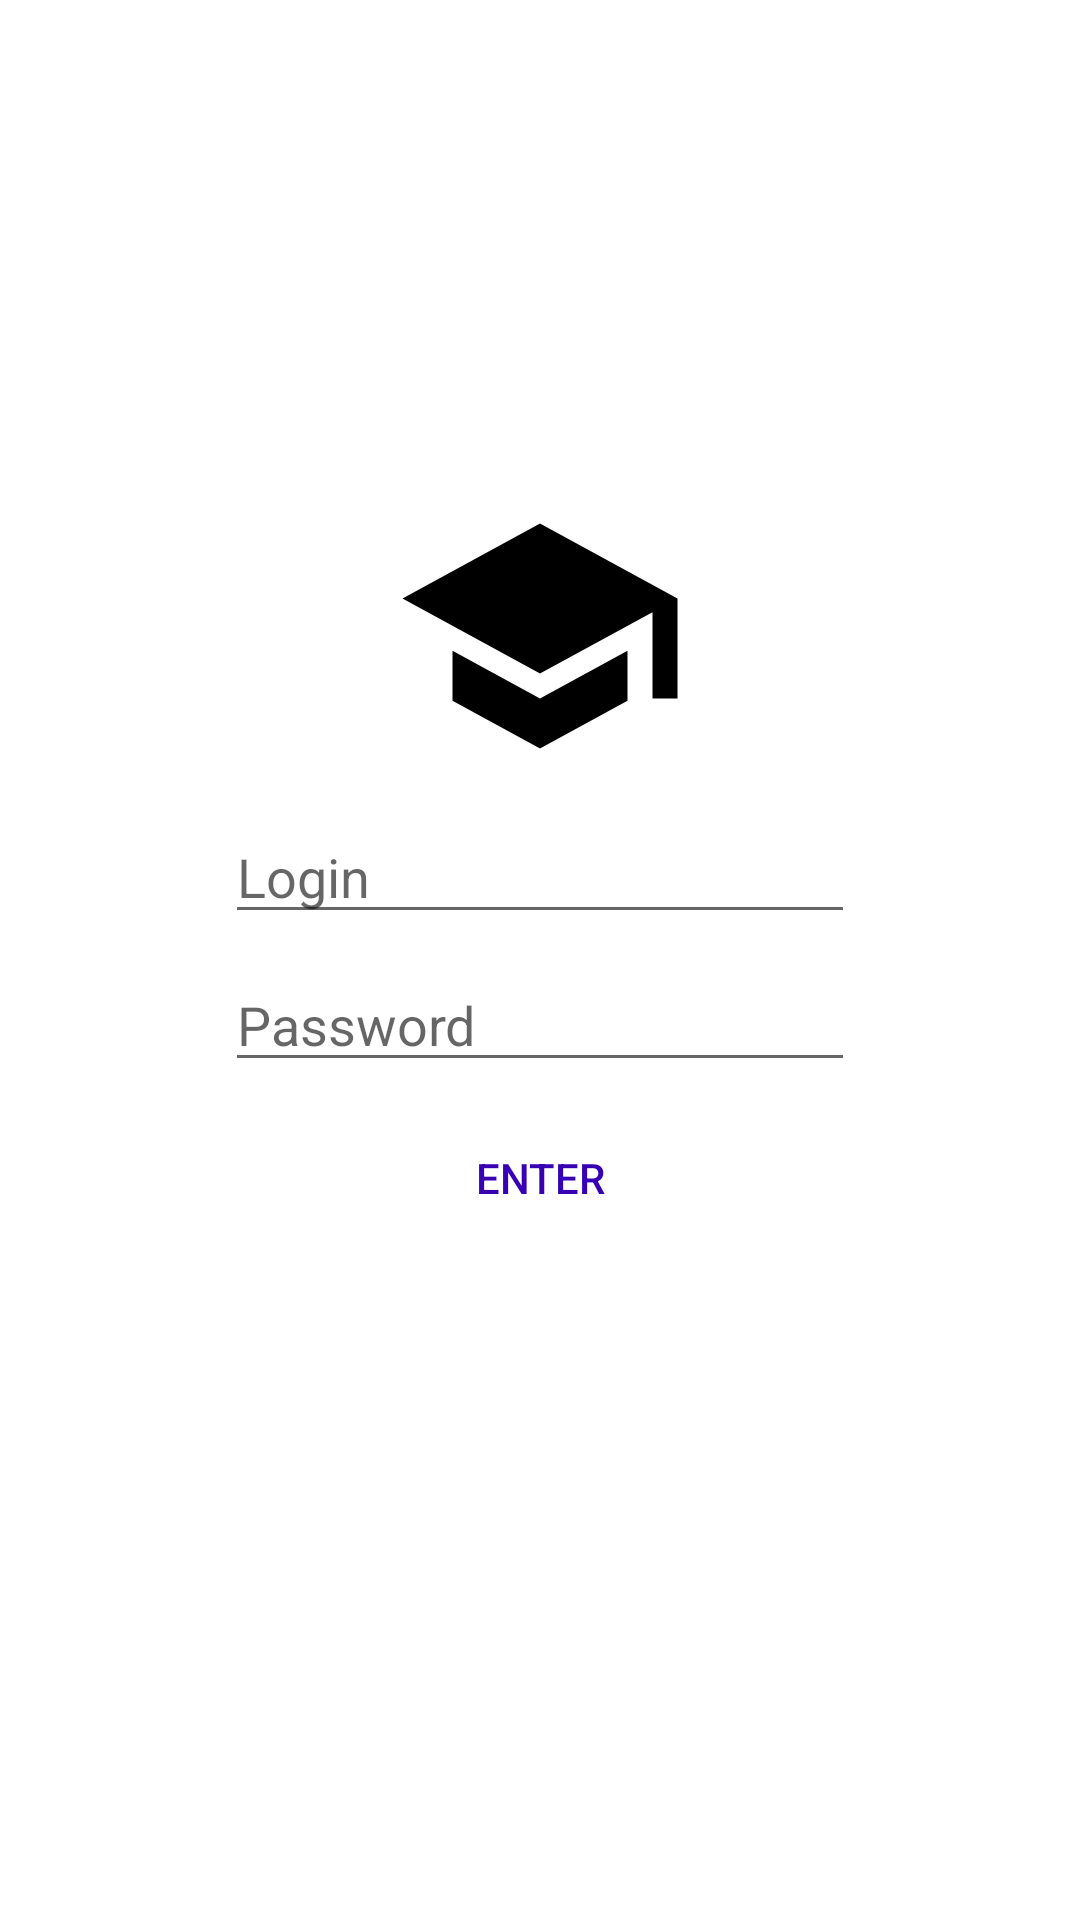

Icon click points for this 1080px×1920px phone screenshot, format [x,y]:
study: [540,636]
